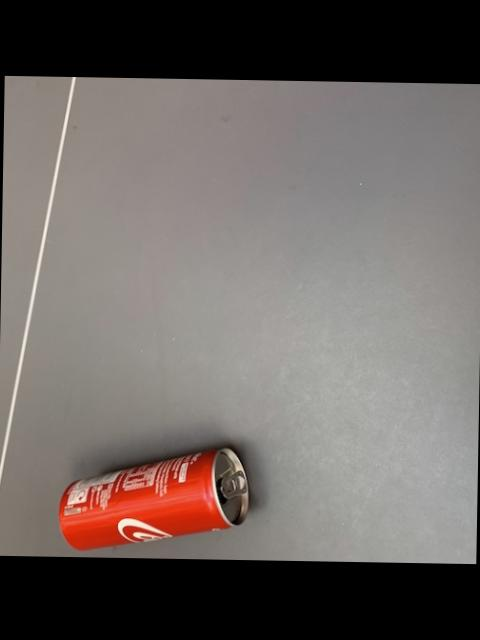metal: (57, 450, 245, 551)
